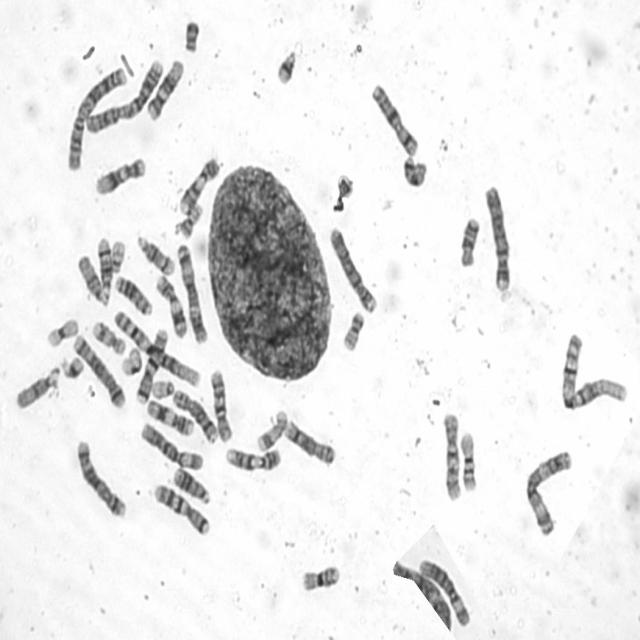A1: (112, 308, 201, 388), (556, 330, 630, 412)
A2: (65, 65, 128, 172), (83, 55, 165, 135)
A3: (522, 446, 574, 537), (174, 239, 209, 344)
B4: (328, 223, 378, 314), (483, 180, 512, 295)
B5: (74, 435, 128, 519), (71, 332, 126, 409)
C10: (440, 410, 463, 502), (208, 365, 234, 443)
C11: (154, 272, 188, 339), (144, 396, 195, 438)
C12: (146, 56, 184, 122), (93, 153, 148, 197)
C6: (418, 555, 472, 627), (139, 419, 205, 473)
C7: (152, 480, 211, 537), (134, 326, 170, 404)
C8: (170, 386, 219, 444), (282, 417, 336, 467)
C9: (177, 154, 220, 215), (223, 443, 282, 473)
D13: (113, 272, 153, 317), (172, 464, 210, 506)
D14: (135, 231, 176, 277), (95, 234, 113, 302)
D15: (13, 363, 61, 411), (75, 251, 110, 307)
E16: (298, 560, 340, 593), (458, 429, 478, 492)
E17: (254, 407, 288, 454), (90, 316, 127, 356)
E18: (457, 214, 481, 269), (401, 151, 429, 189)
F19: (44, 314, 80, 348), (119, 342, 144, 377)
F20: (174, 200, 205, 239), (340, 308, 366, 352)
G21: (272, 45, 300, 87), (58, 352, 86, 380)
G22: (108, 237, 127, 274), (150, 378, 176, 400)
X: (369, 80, 420, 157)
Y: (182, 17, 200, 54)
